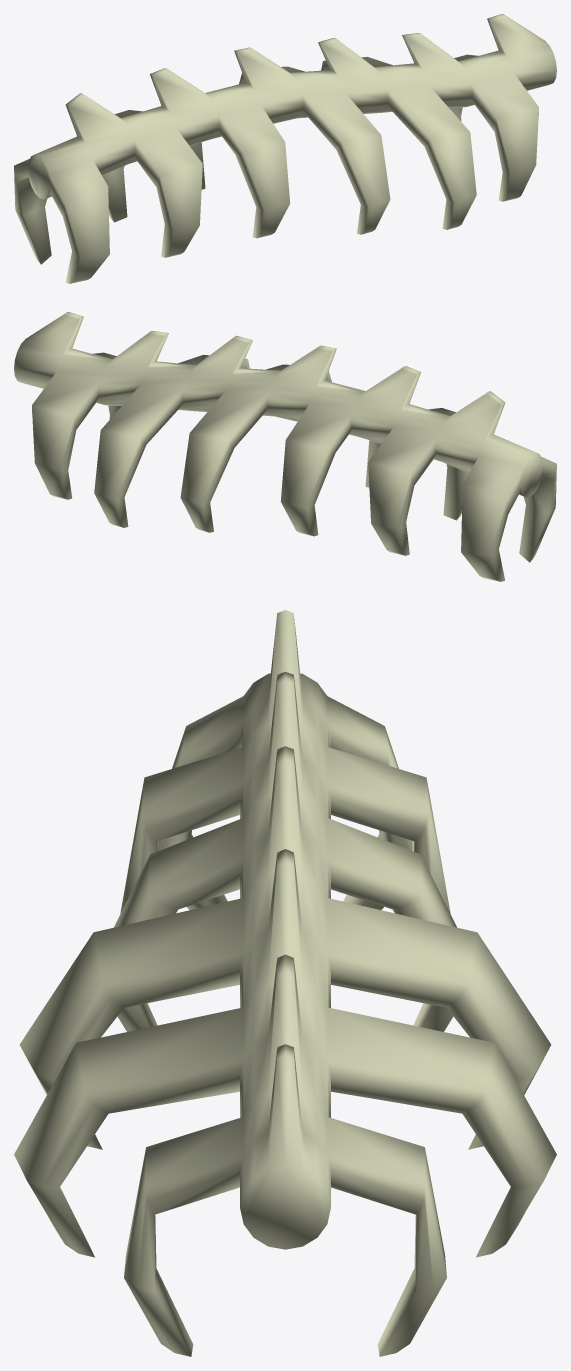
File: SM_ArenaBoundary_Ribcage.fbx
3 renders of one model, top to bottom at view 1: azimuth 30°, elevation 25°; view 2: azimuth 150°, elevation 25°; view 3: azimuth 270°, elevation 25°, orthographic. The views are drawn at different scales.
Parts seen in each view (by area): view 1: BasiliskArena_Bone_Var1; view 2: BasiliskArena_Bone_Var1; view 3: BasiliskArena_Bone_Var1.
Boxes of the visible parts, x1,y1,x2,y2 form: BasiliskArena_Bone_Var1: (14,14,556,283); BasiliskArena_Bone_Var1: (14,312,556,581); BasiliskArena_Bone_Var1: (14,610,556,1356).
Size of the model in its own units: 370 by 133 by 177.
